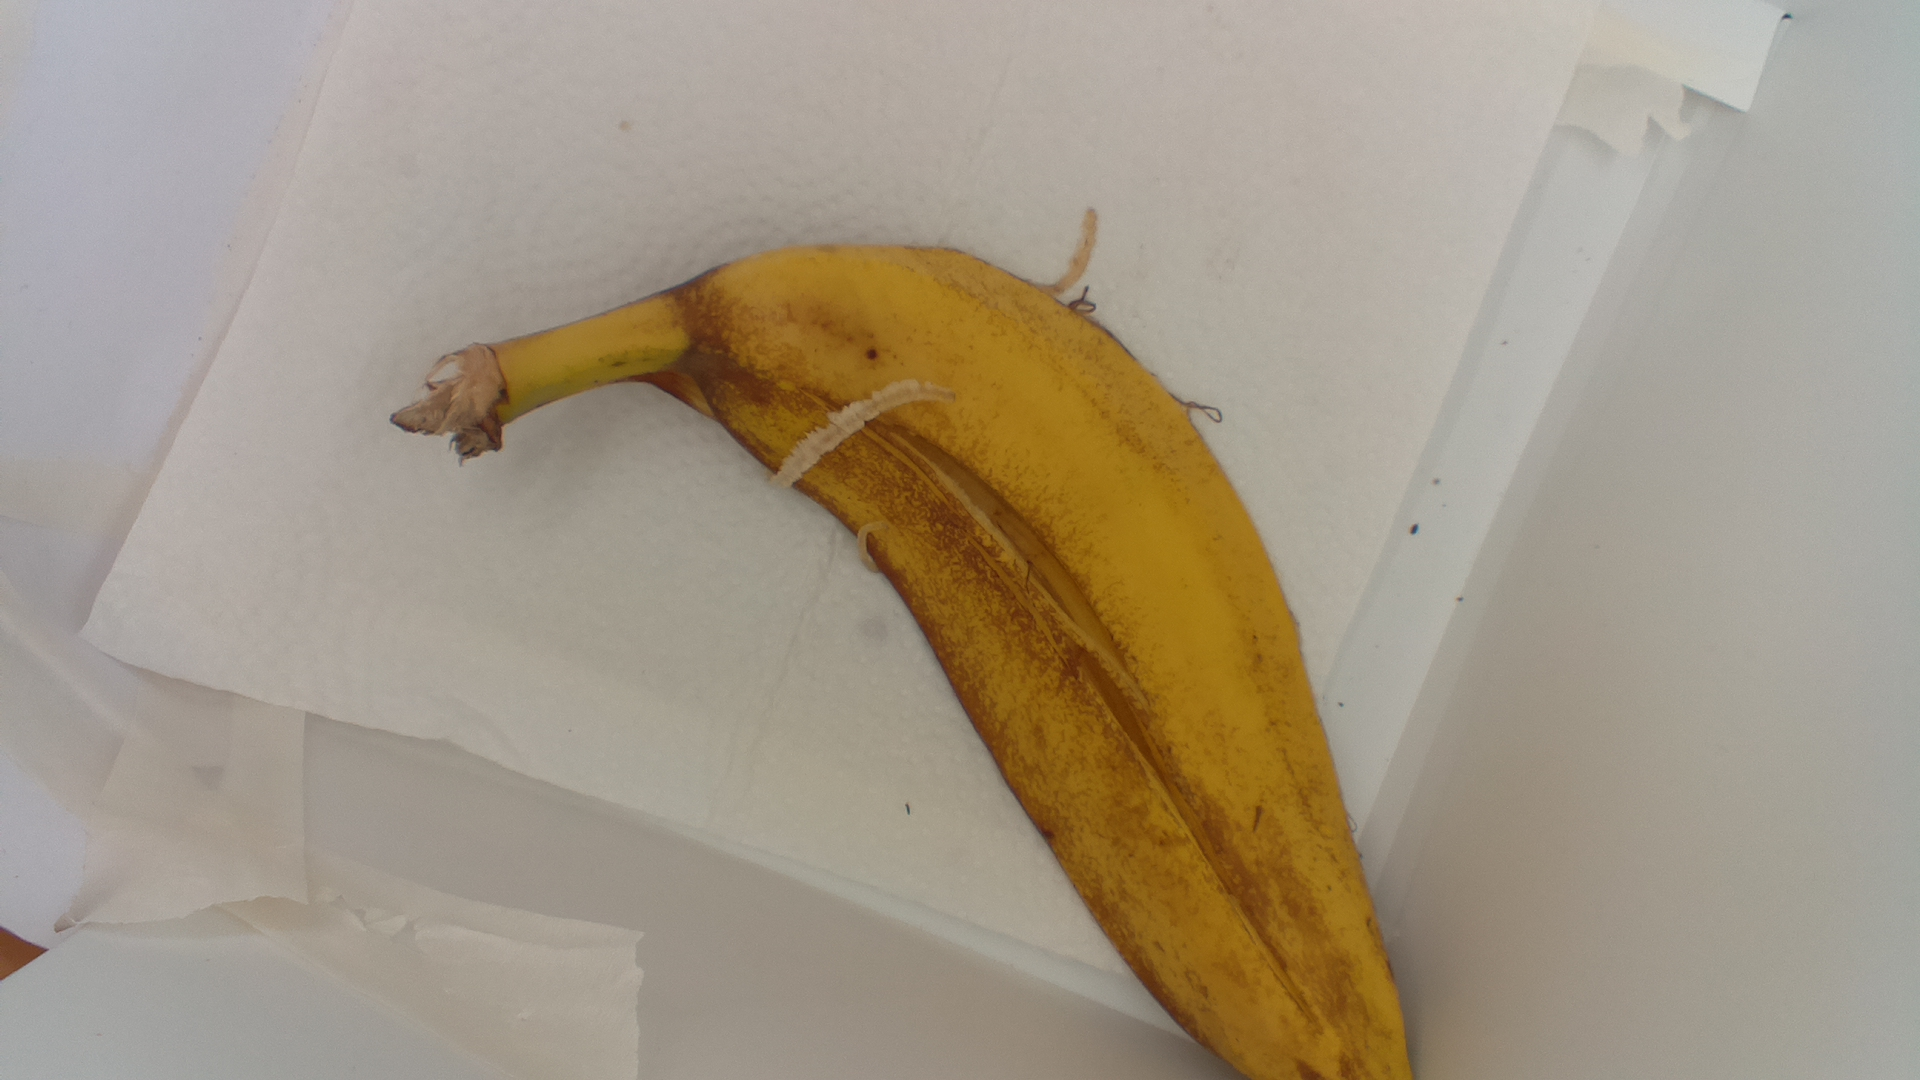fruit: (396, 219, 1443, 1080)
